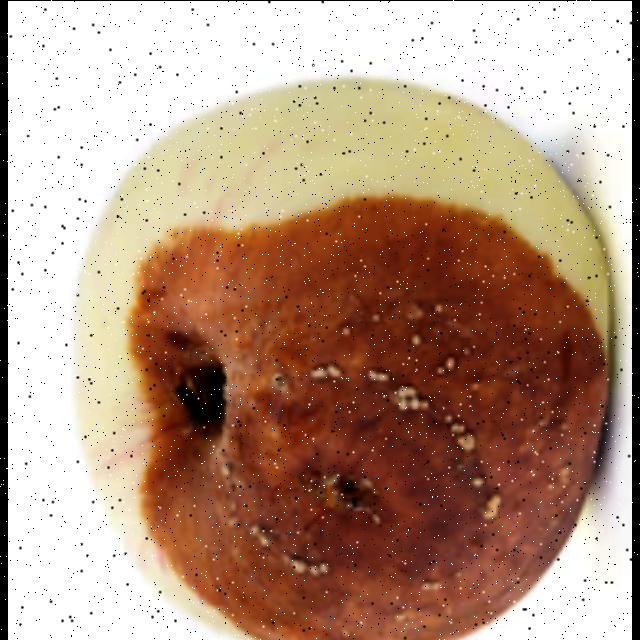Apel Tidak Segar: (32, 64, 632, 640)
